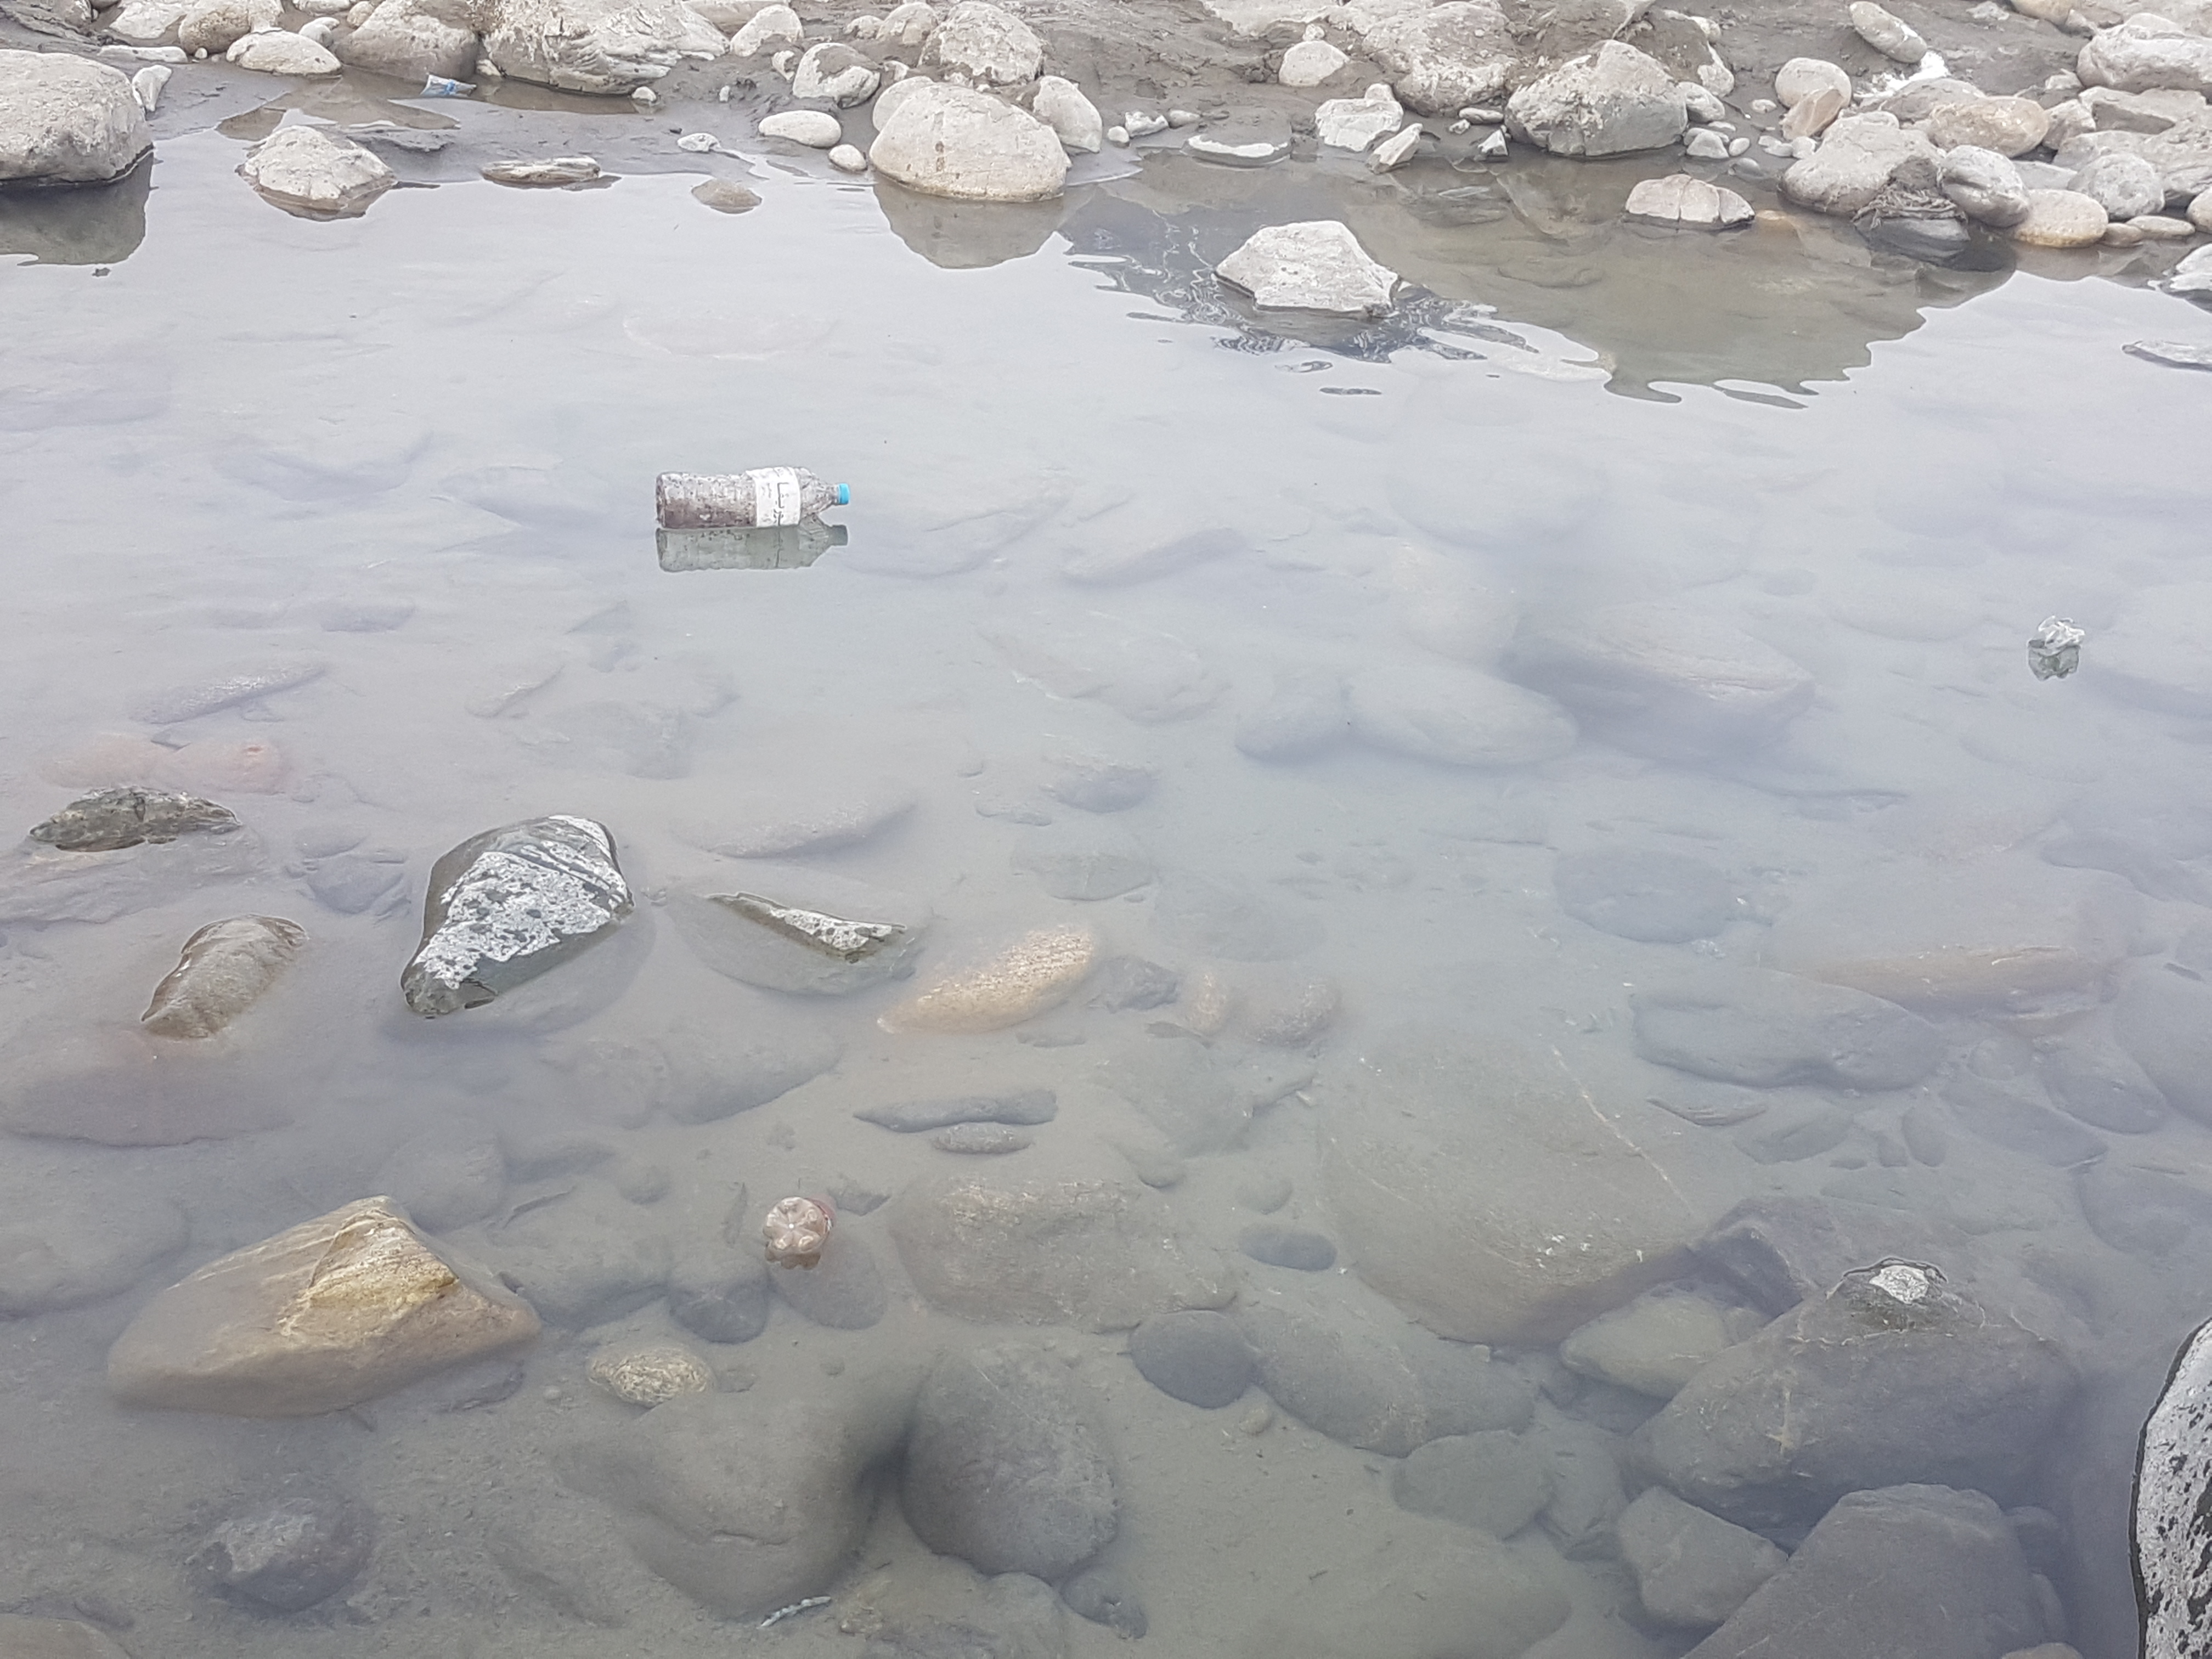Plastic Bottle: (653, 467, 852, 532), (763, 1195, 833, 1262), (2036, 612, 2081, 657), (427, 73, 475, 92)
